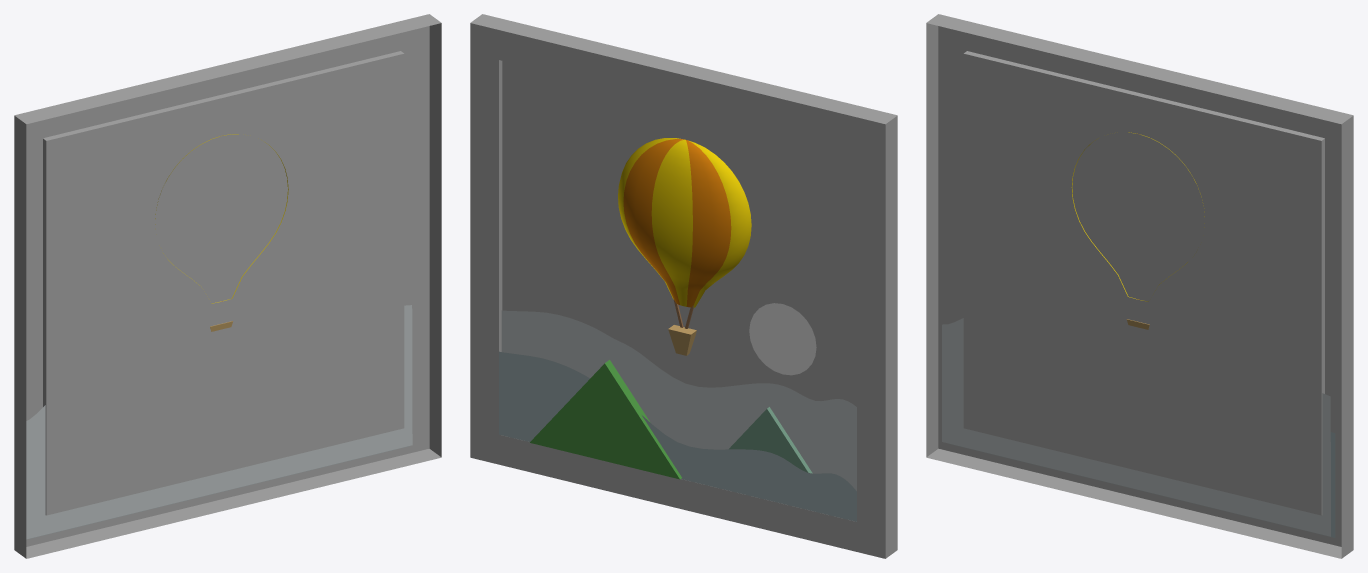
File: zhaopian_1.fbx
3 views of the same model, side by side, from view 1: azimuth 30°, elevation 25°; view 2: azimuth 150°, elevation 25°; view 3: azimuth 330°, elevation 25° (orthographic).
Visible parts, largest first — view 1: zhaopian_1; view 2: zhaopian_1; view 3: zhaopian_1.
Boxes of the visible parts, x1,y1,x2,y2 form: zhaopian_1: (14,14,441,558); zhaopian_1: (470,14,897,558); zhaopian_1: (926,14,1353,558).
Bounding box in the file's own units: 116 × 116 × 10.8.
